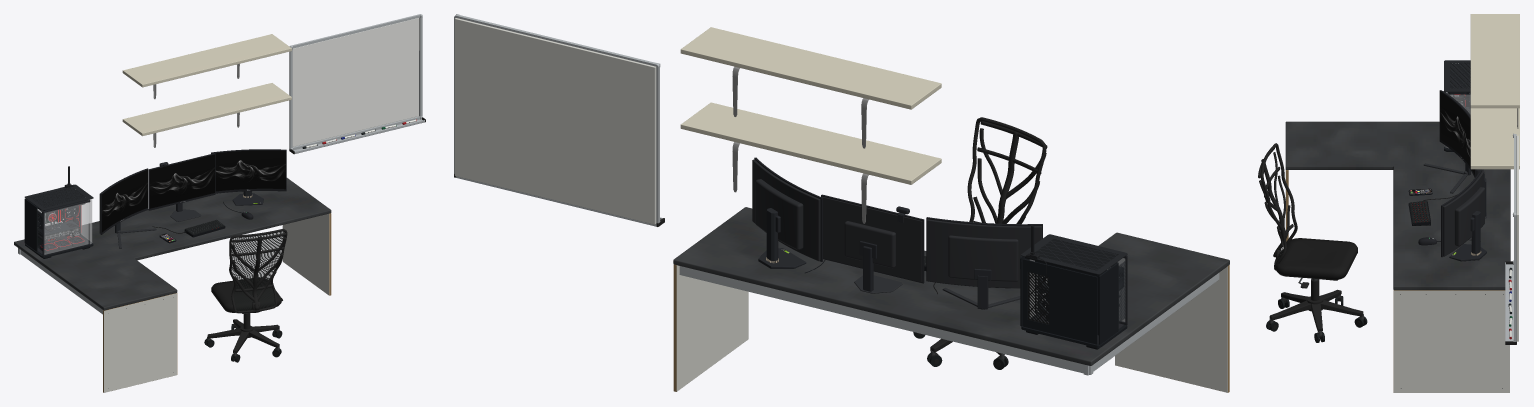
File: pc-setup.glb
3 views of the same model, side by side, from view 1: azimuth 30°, elevation 25°; view 2: azimuth 150°, elevation 25°; view 3: azimuth 270°, elevation 25° (orthographic). The views are drawn at different scales.
Visible parts, largest first — view 1: Desk, Whiteboard_Surface, Desk_Supports_Structure_Furniture_White_Laminate, Shelves_Structure_Furniture_Cream_Shelves, Chair_Structure_Furniture_Black_Polymer, Monitor_Right_Screen, Monitor_Center_Screen, Chair_Back_Mesh, PC_Case_Structure_PC3_Clear_Glass, Whiteboard_Structure_Furniture_Aluminium, Monitor_Left_Screen, Chair_Seat_Cushion (+11 smaller); view 2: Whiteboard_Structure_Furniture_White_Laminate, Desk, Shelves_Structure_Furniture_Cream_Shelves, Desk_Supports_Structure_Furniture_White_Laminate, PC_Case_Structure_PC3_Coated_Black, Desk_Supports_Structure_Furniture_Aluminium, Monitor_Center_Back, Chair_Structure_Furniture_Black_Polymer, Monitor_Left_Back, Monitor_Left_Rear_Hump, PC_Case_Structure_PC8_Top_Matte_Metal, Monitor_Right_Back (+6 smaller); view 3: Desk, Desk_Supports_Structure_Furniture_White_Laminate, Shelves_Structure_Furniture_Cream_Shelves, Chair_Structure_Furniture_Black_Polymer, Chair_Seat_Cushion, Monitor_Left_Screen, Monitor_Right_Rear_Hump, Monitor_Right_Back, PC_Case_Structure_PC8_Top_Matte_Metal, Whiteboard_Structure_Furniture_Aluminium, Whiteboard_Structure_Furniture_White_Laminate, Whiteboard_Tray_Furniture_Aluminium (+8 smaller).
Part boxes in pixels (x1,y1,x2,y2): Desk: [14, 178, 331, 310]; Whiteboard_Surface: [292, 18, 418, 146]; Desk_Supports_Structure_Furniture_White_Laminate: [104, 213, 329, 392]; Shelves_Structure_Furniture_Cream_Shelves: [122, 34, 291, 136]; Chair_Structure_Furniture_Black_Polymer: [207, 228, 287, 360]; Monitor_Right_Screen: [215, 150, 285, 191]; Monitor_Center_Screen: [150, 154, 214, 208]; Chair_Back_Mesh: [231, 231, 284, 310]; PC_Case_Structure_PC3_Clear_Glass: [44, 199, 91, 254]; Whiteboard_Structure_Furniture_Aluminium: [289, 14, 422, 150]; Monitor_Left_Screen: [102, 170, 147, 232]; Chair_Seat_Cushion: [211, 277, 281, 312]; Whiteboard_Structure_Furniture_White_Laminate: [454, 18, 656, 224]; Desk: [673, 207, 1229, 365]; Shelves_Structure_Furniture_Cream_Shelves: [680, 27, 941, 184]; Desk_Supports_Structure_Furniture_White_Laminate: [676, 265, 1227, 392]; PC_Case_Structure_PC3_Coated_Black: [1020, 256, 1127, 347]; Desk_Supports_Structure_Furniture_Aluminium: [679, 266, 1219, 375]; Monitor_Center_Back: [822, 196, 922, 282]; Chair_Structure_Furniture_Black_Polymer: [917, 117, 1047, 366]; Monitor_Left_Back: [926, 219, 1041, 288]; Monitor_Left_Rear_Hump: [948, 235, 1018, 281]; PC_Case_Structure_PC8_Top_Matte_Metal: [1021, 234, 1127, 274]; Monitor_Right_Back: [752, 159, 820, 261]; Desk: [1285, 121, 1510, 290]; Desk_Supports_Structure_Furniture_White_Laminate: [1285, 170, 1509, 392]; Shelves_Structure_Furniture_Cream_Shelves: [1470, 14, 1519, 169]; Chair_Structure_Furniture_Black_Polymer: [1258, 143, 1363, 340]; Chair_Seat_Cushion: [1276, 238, 1357, 279]; Monitor_Left_Screen: [1440, 92, 1474, 174]; Monitor_Right_Rear_Hump: [1454, 187, 1484, 246]; Monitor_Right_Back: [1443, 171, 1484, 256]; PC_Case_Structure_PC8_Top_Matte_Metal: [1444, 60, 1470, 92]; Whiteboard_Structure_Furniture_Aluminium: [1513, 133, 1516, 341]; Whiteboard_Structure_Furniture_White_Laminate: [1516, 135, 1518, 341]; Whiteboard_Tray_Furniture_Aluminium: [1505, 262, 1513, 341].
Size of the model in its own units: 3.79 by 2 by 1.68.
Materials: 100 (8 with a texture image).
